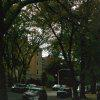Tree: (54, 4, 100, 86)
